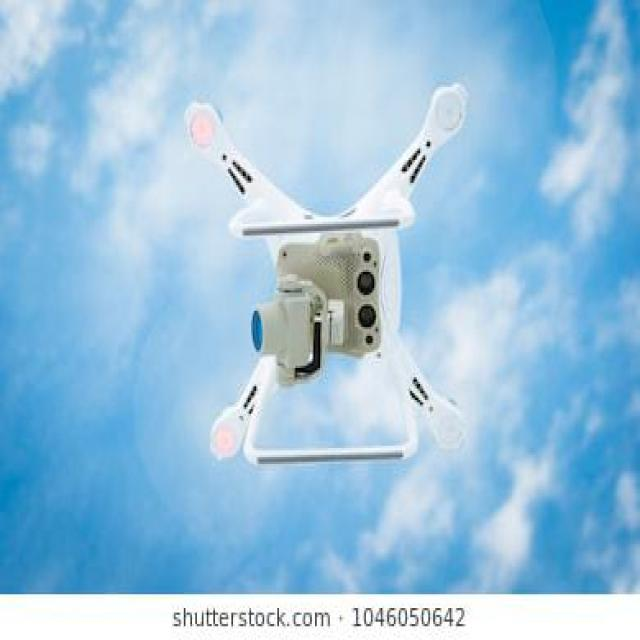drone: (163, 46, 512, 512)
